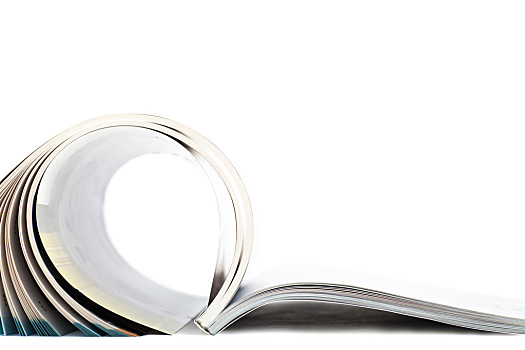book: (1, 108, 525, 346)
